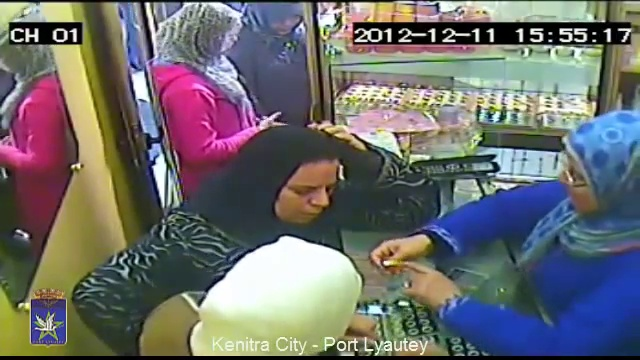face: (271, 162, 336, 221), (557, 146, 610, 215)
